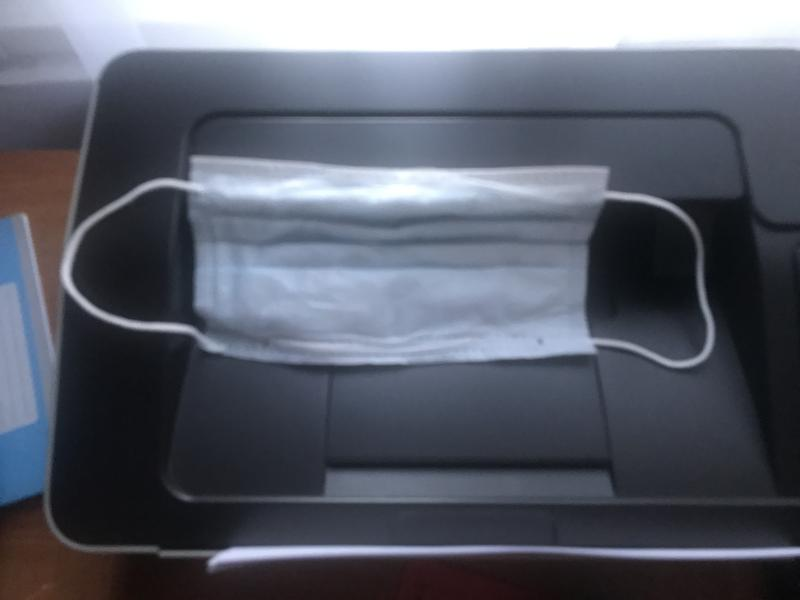medical_mask: (58, 155, 714, 372)
